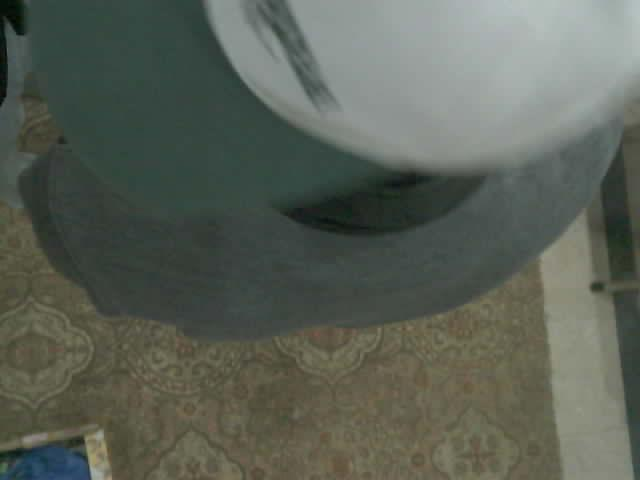cap: (121, 0, 516, 189)
